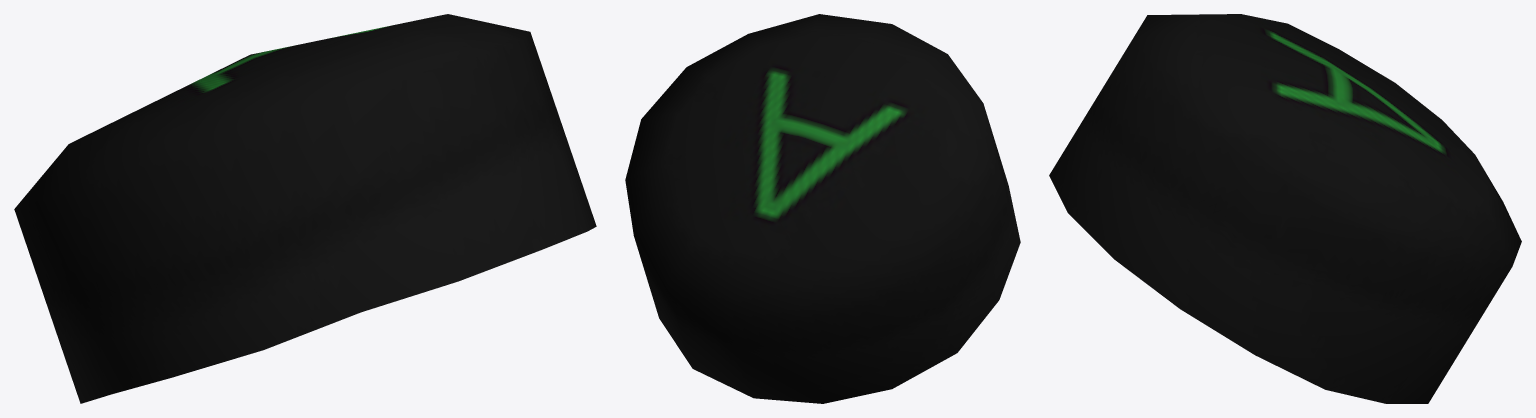
Rendered from YVR_d1_right_Abutton.obj.
3 renders of one model, left to right at view 1: azimuth 30°, elevation 25°; view 2: azimuth 150°, elevation 25°; view 3: azimuth 270°, elevation 25°, orthographic. The views are drawn at different scales.
Visible parts, largest first — view 1: Object011; view 2: Object011; view 3: Object011.
Boxes of the visible parts, box(x1,y1,x2,y2) form: Object011: box(14, 14, 596, 403); Object011: box(625, 14, 1020, 403); Object011: box(1049, 14, 1521, 403).
Size of the model in its own units: 0.0098 by 0.008 by 0.0101.
Materials: 1 (1 with a texture image).
